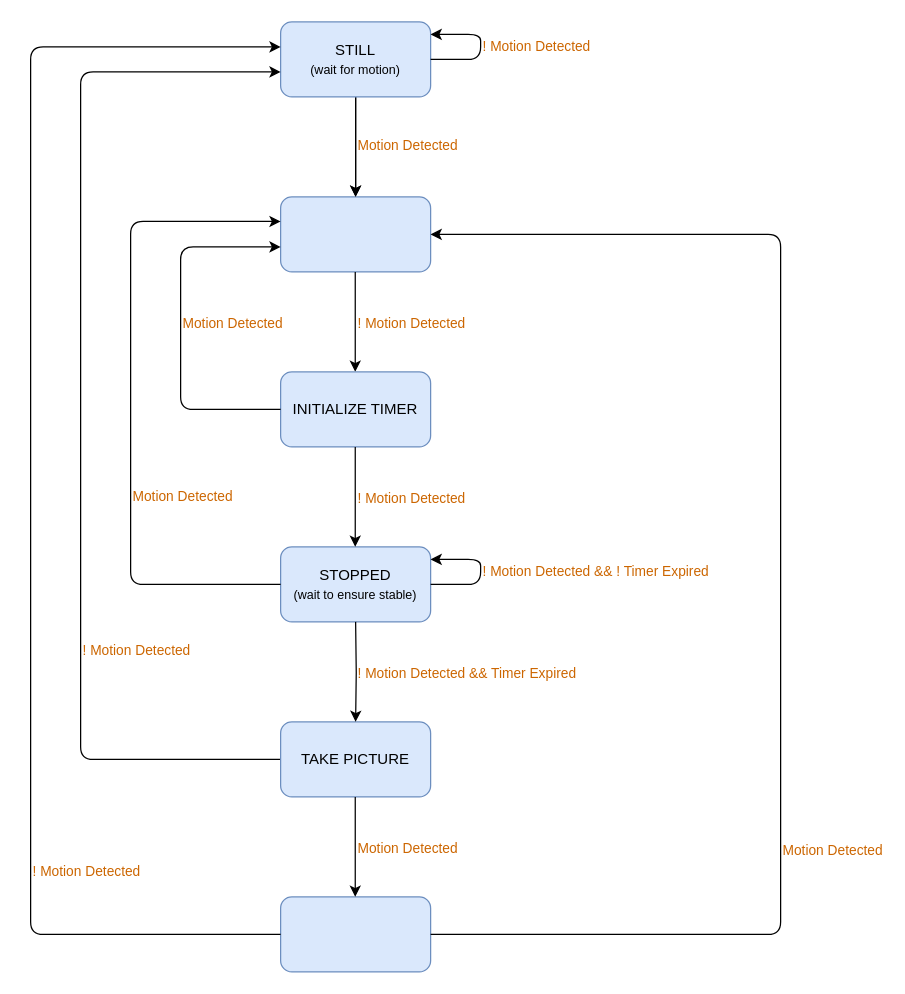
The diagram is 905 pixels wide and 994 high, and some of its shapes have lost their labels. Here are the shapes that lost their labels. From the top down, the box of each, then its label:
(279, 196, 431, 272): MOVING
(279, 896, 431, 972): POISON PICTURE (discard picture)
